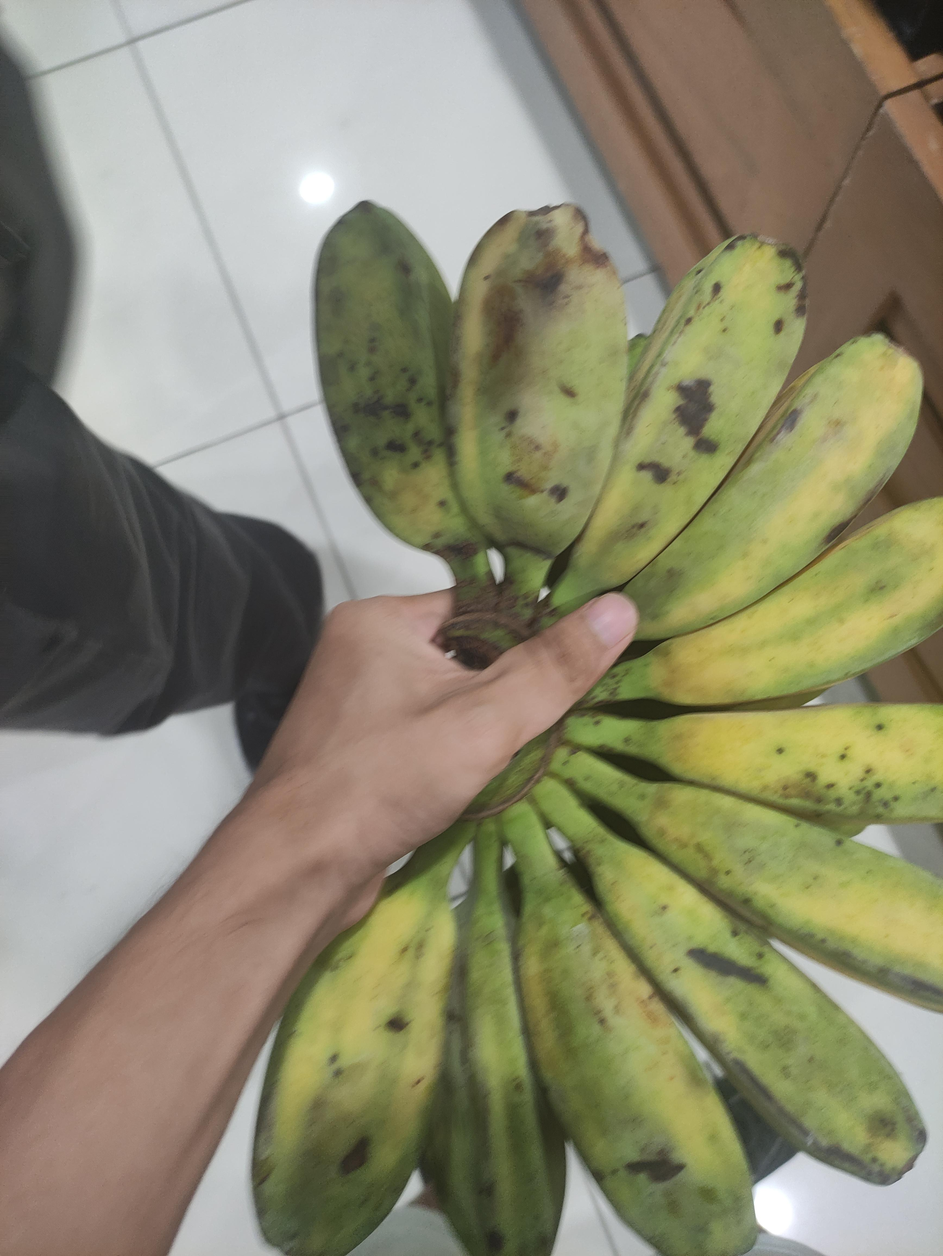underripe: (253, 203, 943, 1256)
